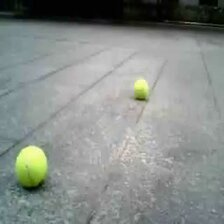tennis: (15, 145, 47, 184), (134, 78, 148, 98)
